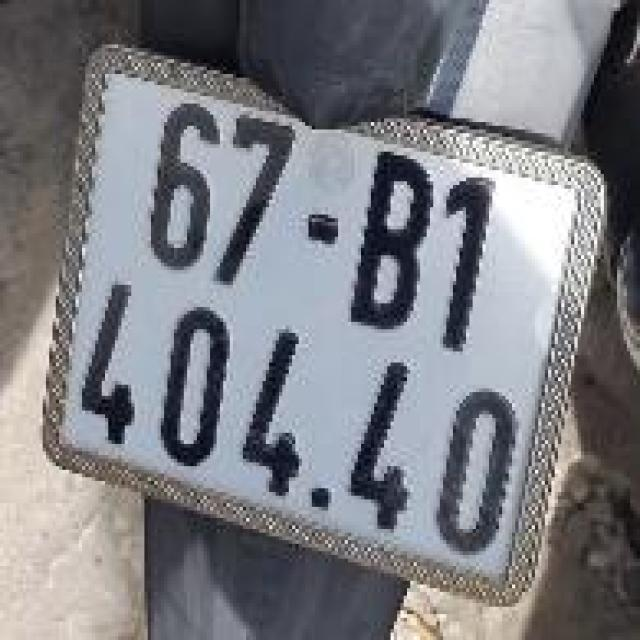0: (424, 375, 532, 573), (150, 290, 242, 476)
1: (418, 166, 501, 364)
4: (340, 348, 437, 541), (232, 317, 326, 509), (75, 267, 155, 456)
6: (144, 90, 231, 282)
7: (204, 109, 300, 300)
B: (341, 143, 445, 346)
